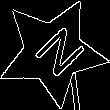N_SW: (21, 20, 84, 83)
